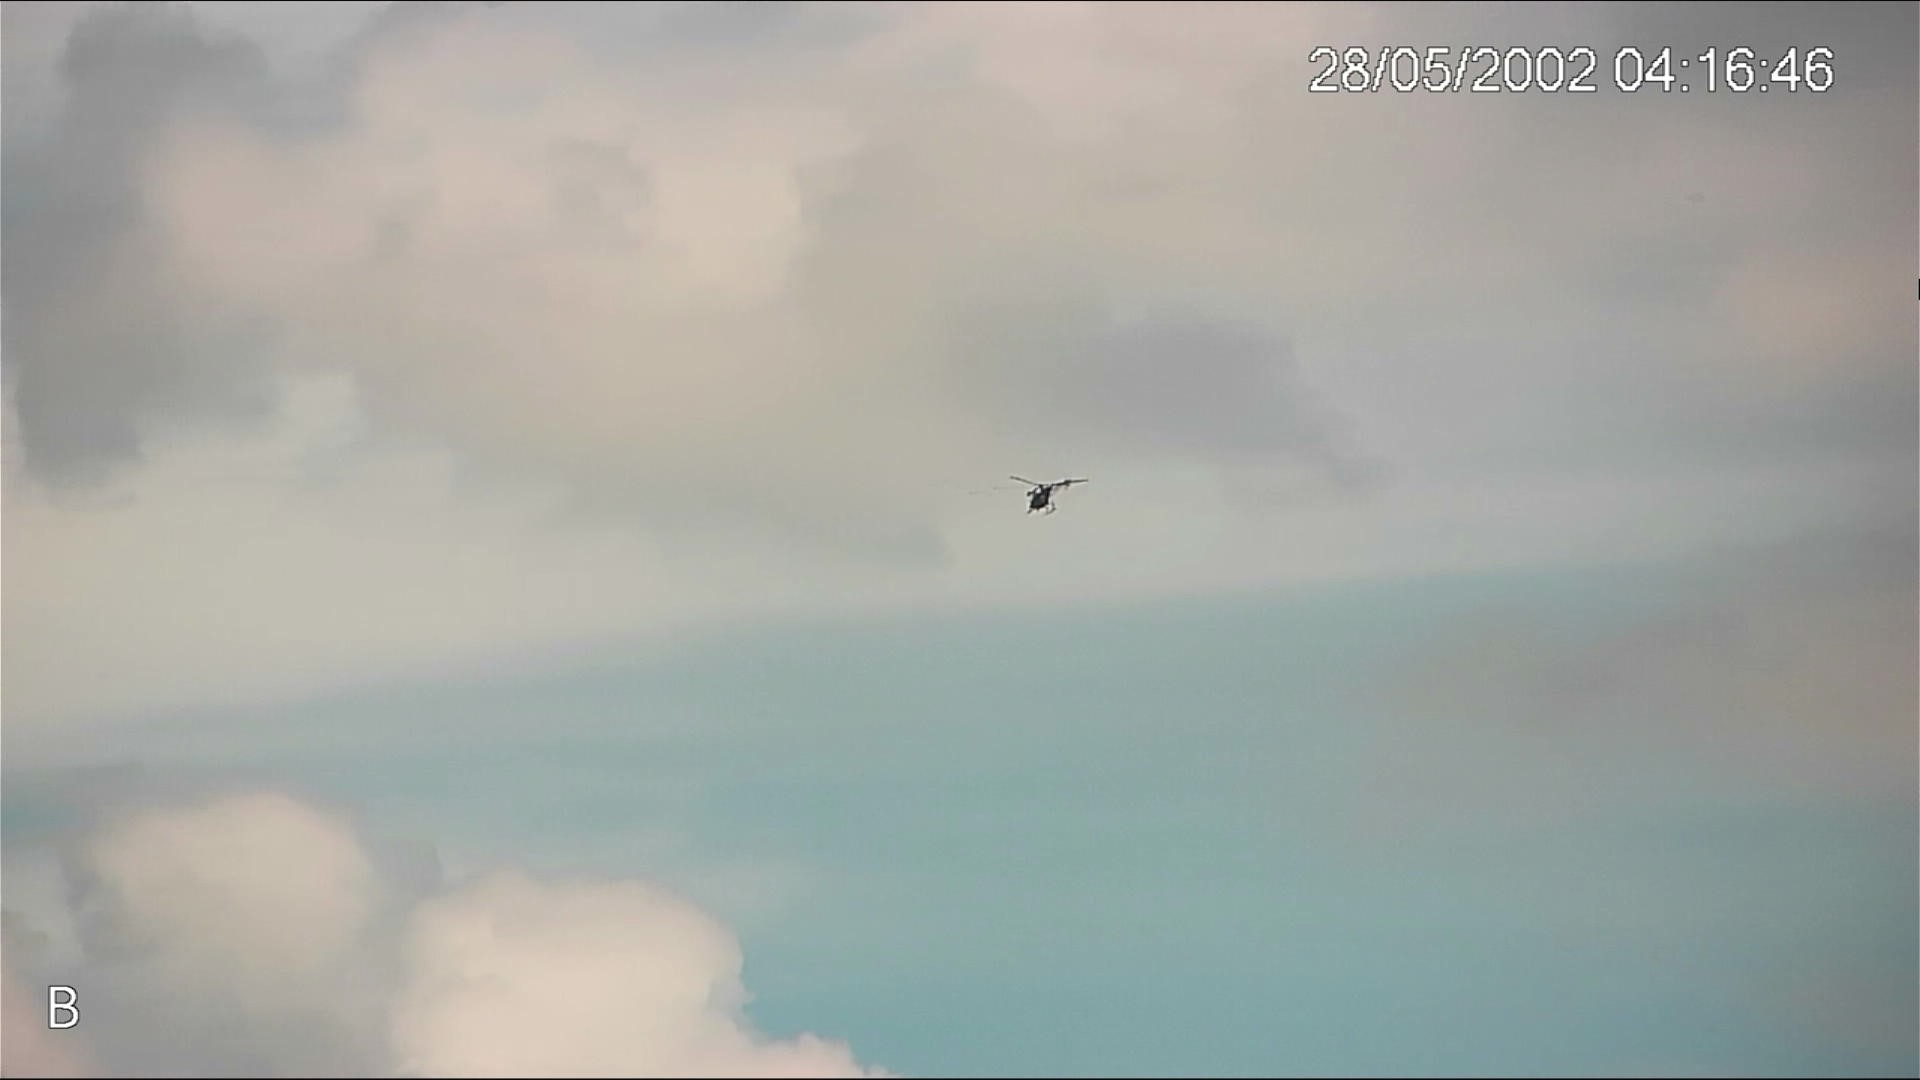SU_30: (1019, 479, 1065, 513)
